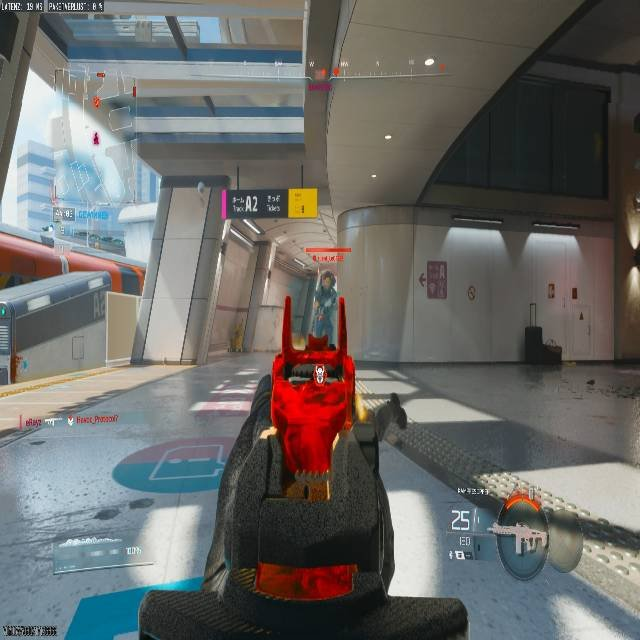head: (321, 271, 336, 289)
player: (308, 266, 343, 346), (315, 270, 338, 320)
